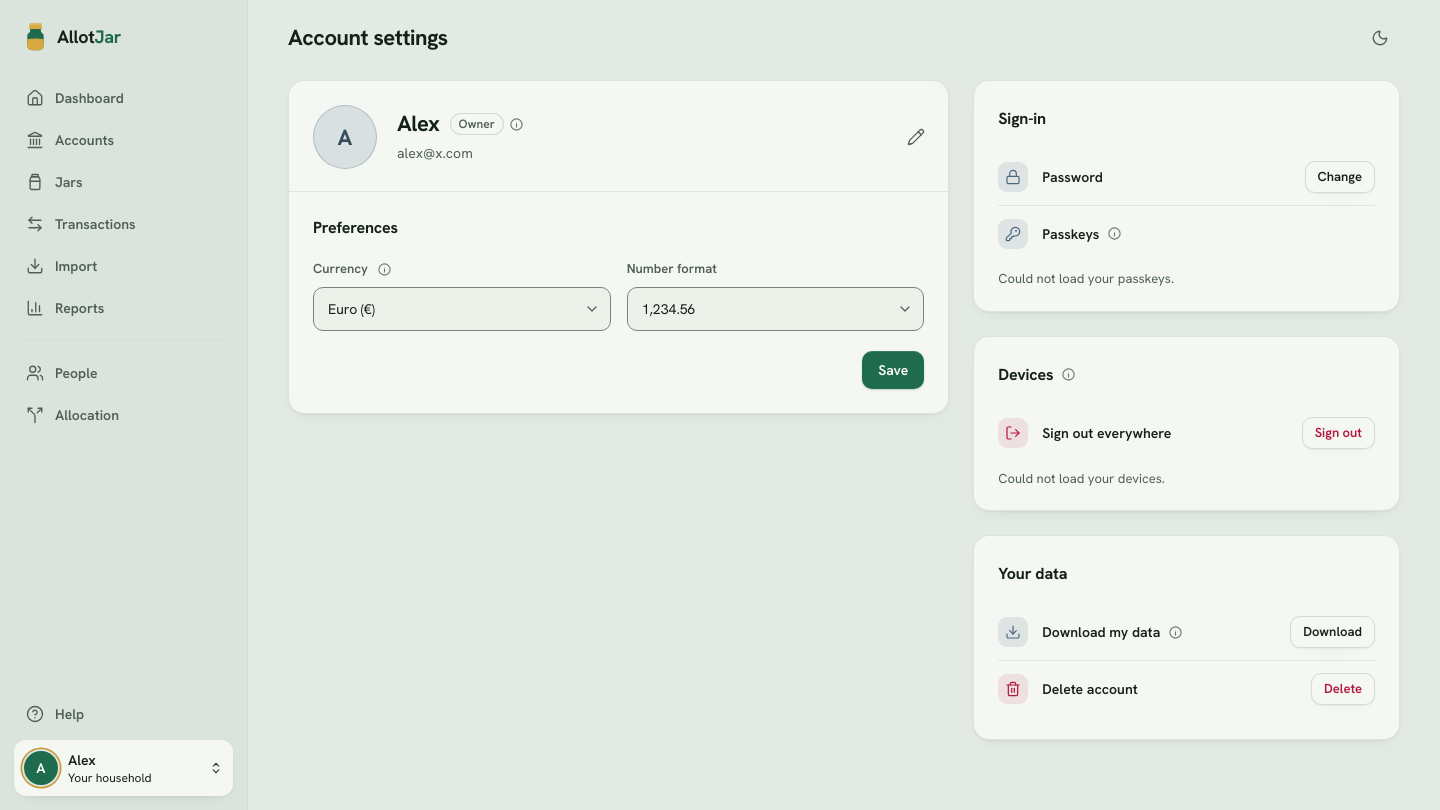
Scenario: AccountPage — preferences catalog (PREF) › PREF-024: a wrong current password shows the Identity error and keeps the values
Step 1. Click the button with aria-label "Change password" → (1340, 177), box 1304,161 -> 1375,193
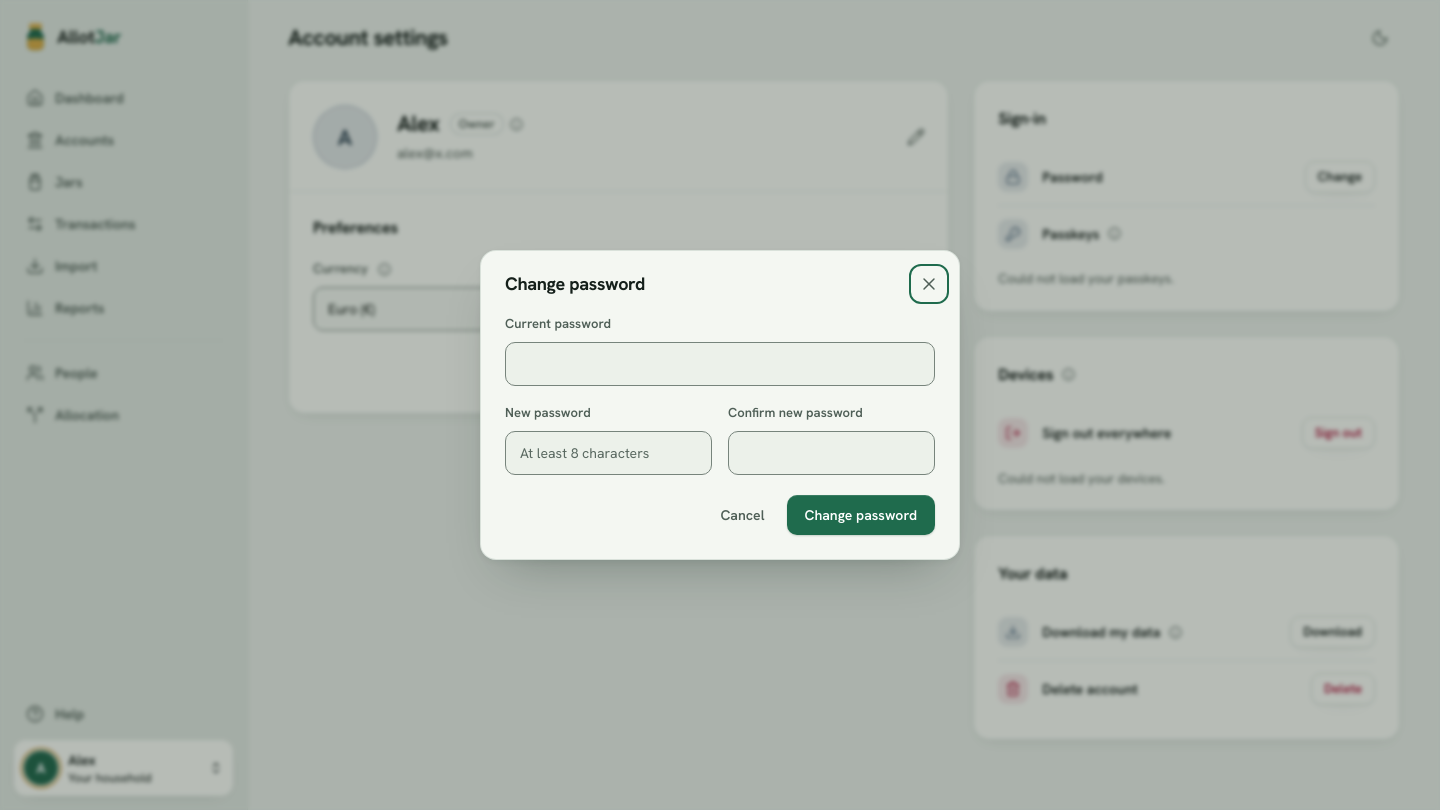
Step 2. Type "Wrong-Guess-99z" into the password field labelled "Current password" → (720, 364), box 505,342 -> 935,386
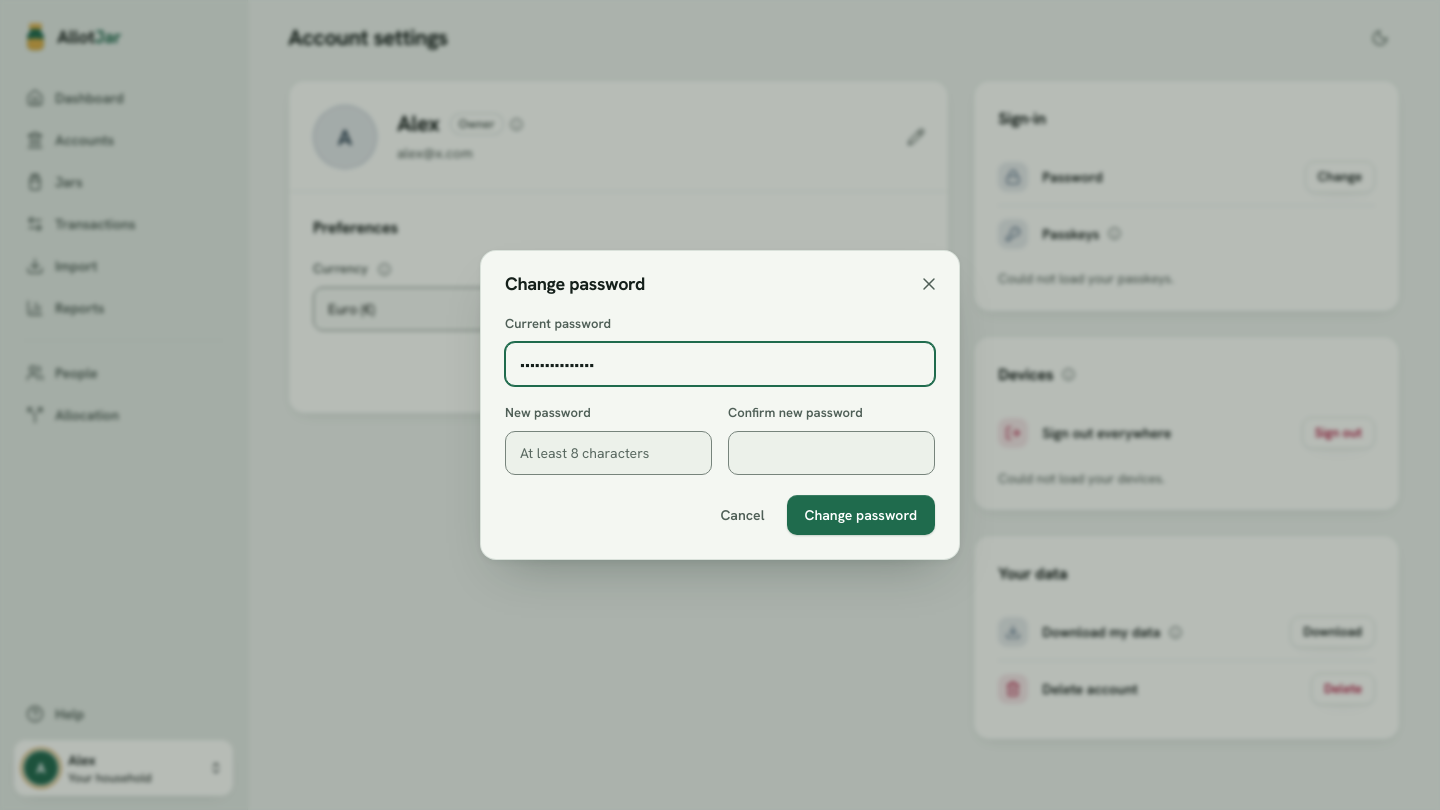
Step 3. Type "Aa1-fresh-secret" into the password field labelled "New password" → (608, 453), box 505,431 -> 712,475
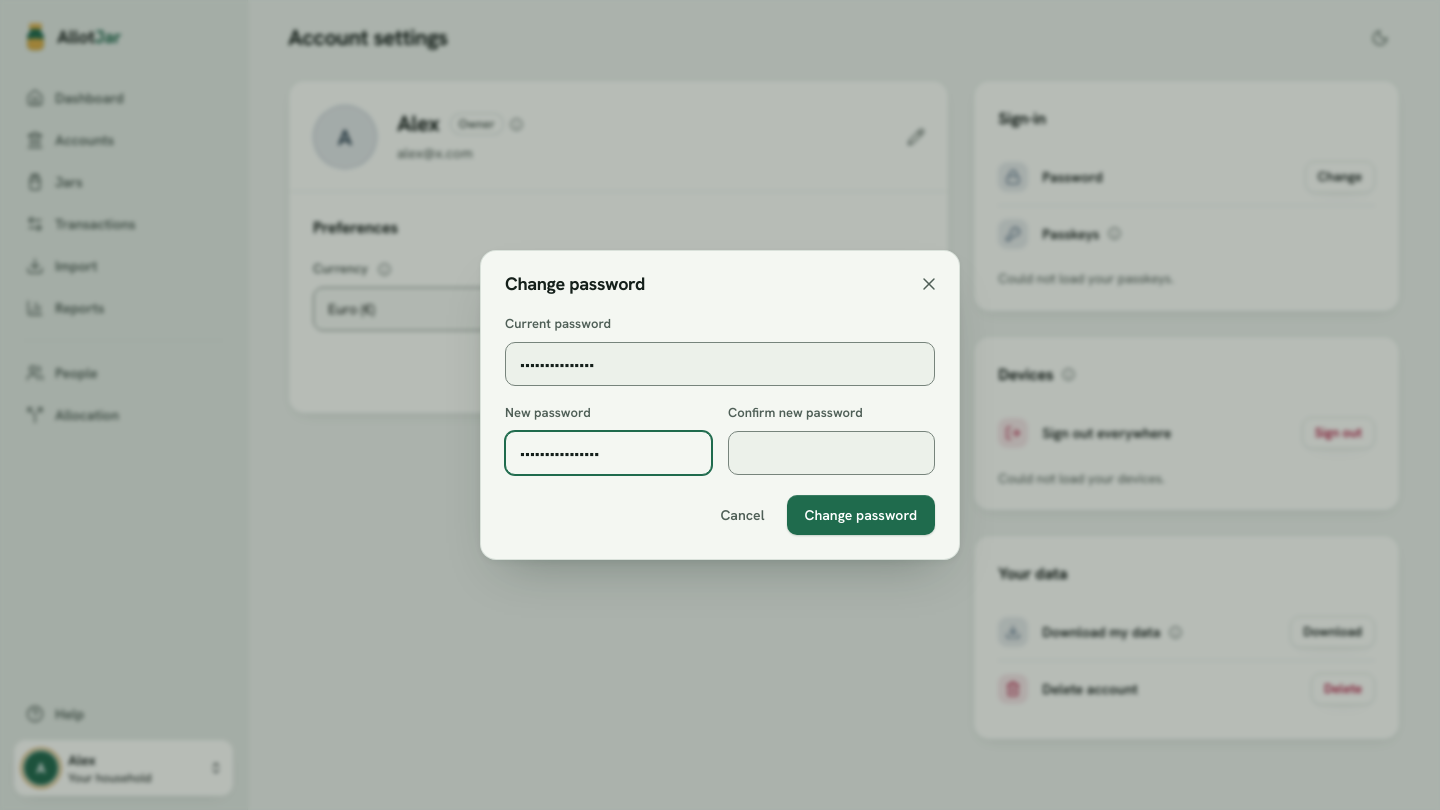
Step 4. Type "Aa1-fresh-secret" into the password field labelled "Confirm new password" → (832, 453), box 728,431 -> 935,475
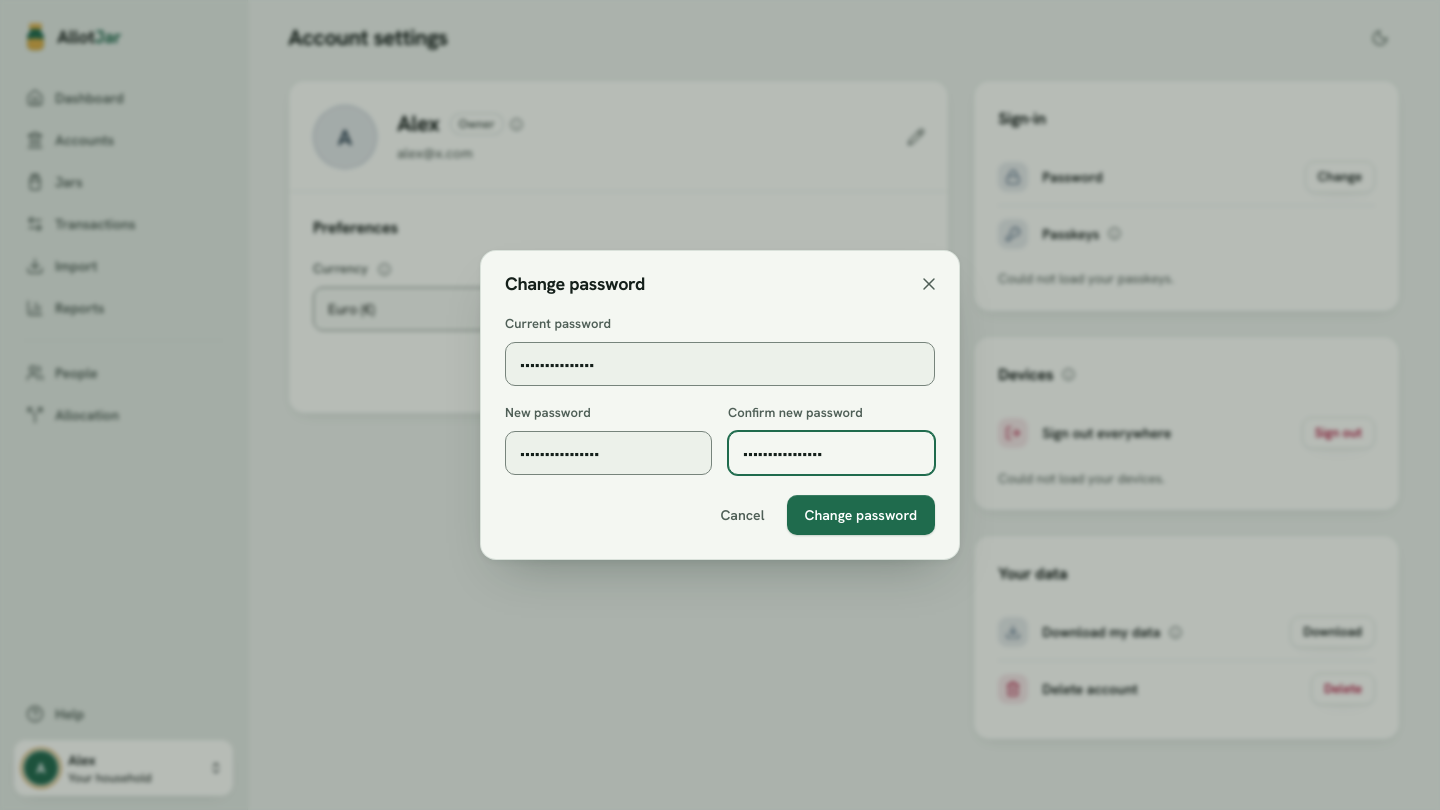
Step 5. Click the button "Change password" → (861, 515), box 786,495 -> 935,535
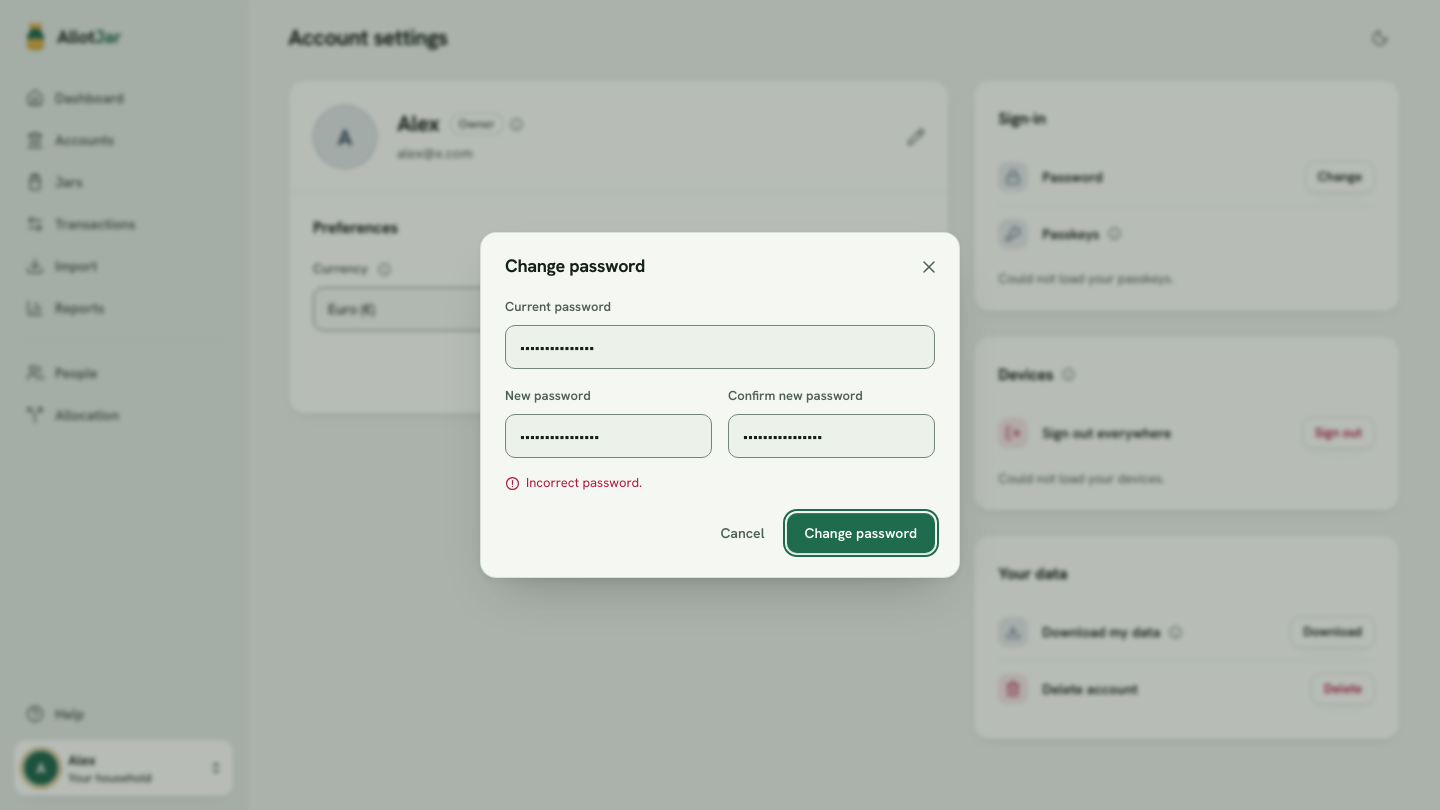
Expected: the message reads "Incorrect password.", 526,474 -> 642,491
